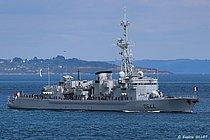MIL_Ship: (7, 51, 200, 114)
